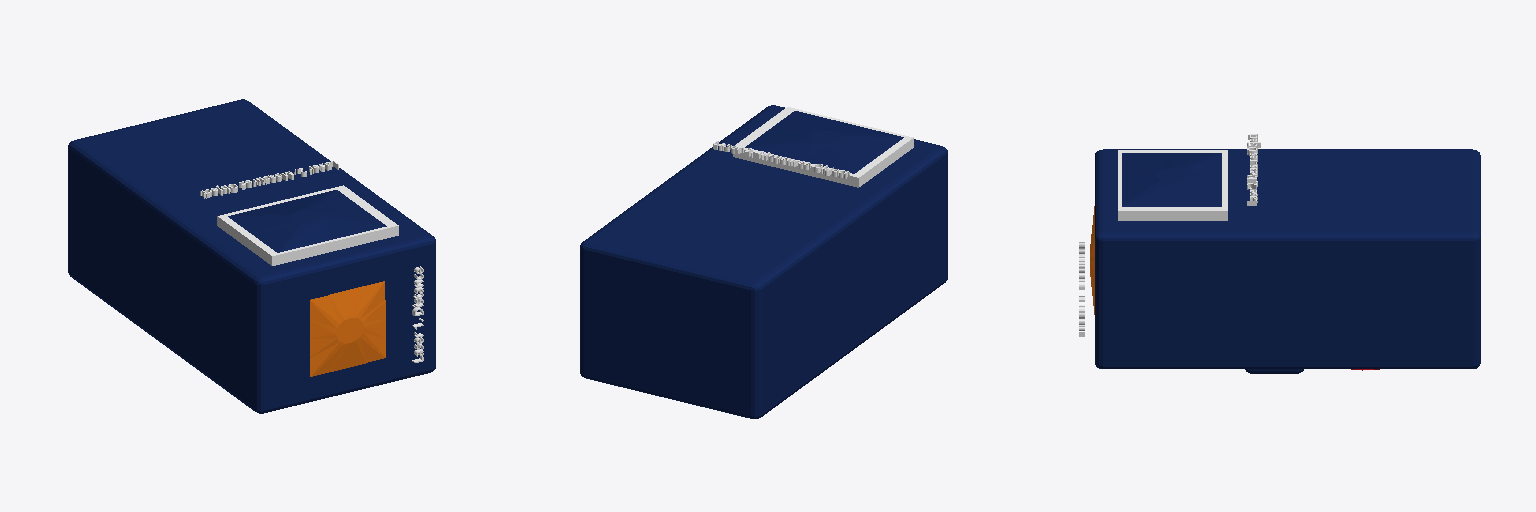
The model's file is tinker.obj.
3 renders of one model, left to right at view 1: azimuth 30°, elevation 25°; view 2: azimuth 150°, elevation 25°; view 3: azimuth 270°, elevation 25°, orthographic.
Parts seen in each view (by area): view 1: obj_0; view 2: obj_0; view 3: obj_0.
Boxes of the visible parts, x1=… form: obj_0: x1=68, y1=99, x2=435, y2=413; obj_0: x1=580, y1=105, x2=947, y2=418; obj_0: x1=1079, y1=134, x2=1480, y2=373.
Size of the model in its own units: 38.01 by 36 by 73.01.